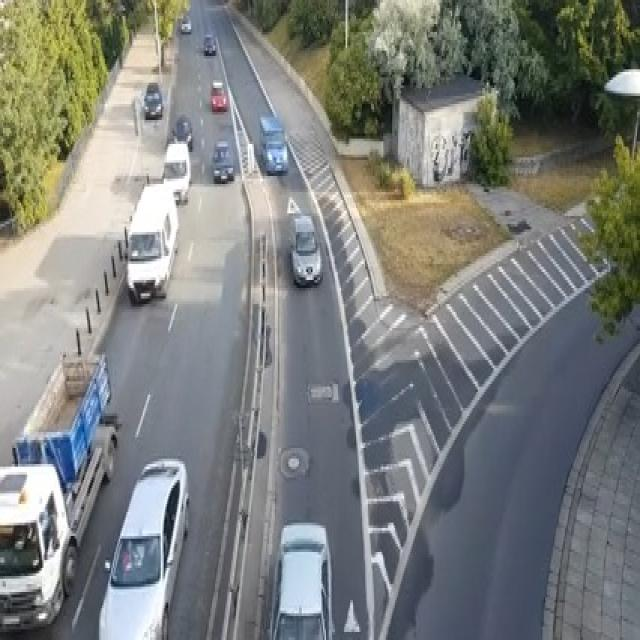car: (98, 456, 189, 637), (0, 461, 77, 635), (267, 520, 335, 637), (290, 213, 321, 286), (161, 141, 191, 203), (258, 115, 288, 173), (210, 139, 234, 181), (143, 80, 162, 117), (172, 115, 192, 149), (210, 80, 228, 112), (203, 32, 216, 53), (180, 13, 191, 32)
